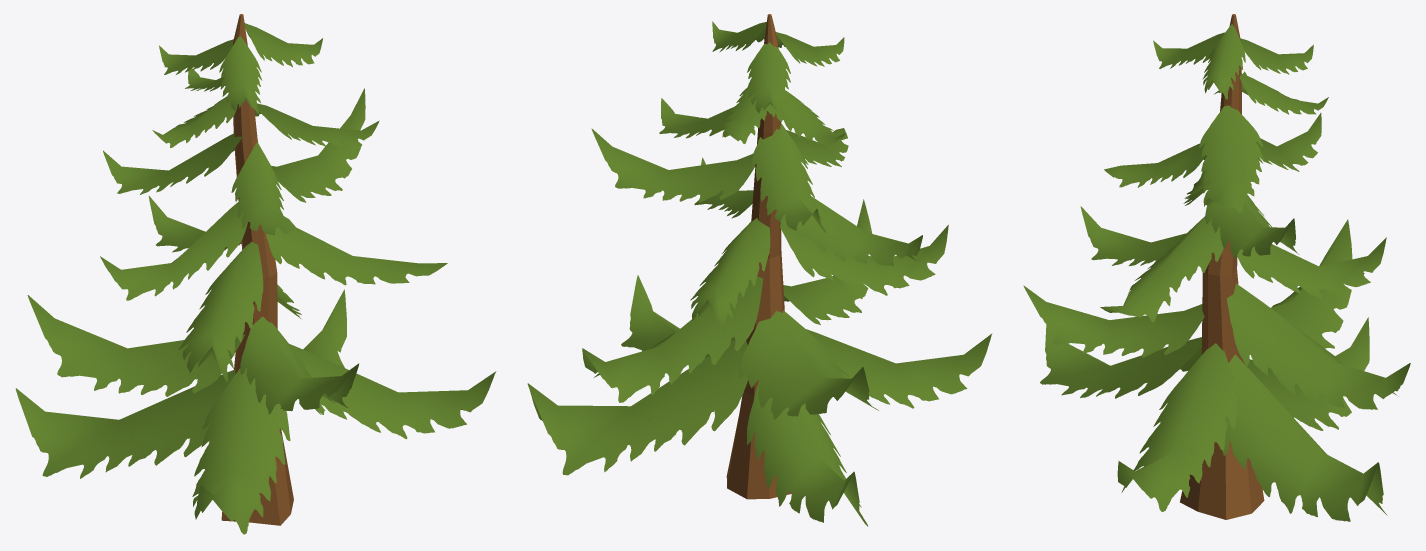
The model's file is Tree_High.fbx.
3 views of the same model, side by side, from view 1: azimuth 30°, elevation 25°; view 2: azimuth 150°, elevation 25°; view 3: azimuth 270°, elevation 25° (orthographic). The views are drawn at different scales.
Visible parts, largest first — view 1: Cylinder.018; view 2: Cylinder.018; view 3: Cylinder.018.
Boxes of the visible parts, left/top/right/bottom form: Cylinder.018: left=15, top=14, right=496, bottom=534; Cylinder.018: left=527, top=14, right=992, bottom=526; Cylinder.018: left=1023, top=14, right=1410, bottom=521.
Bounding box in the file's own units: 342 × 456 × 333.
Materials: 1 (1 with a texture image).
